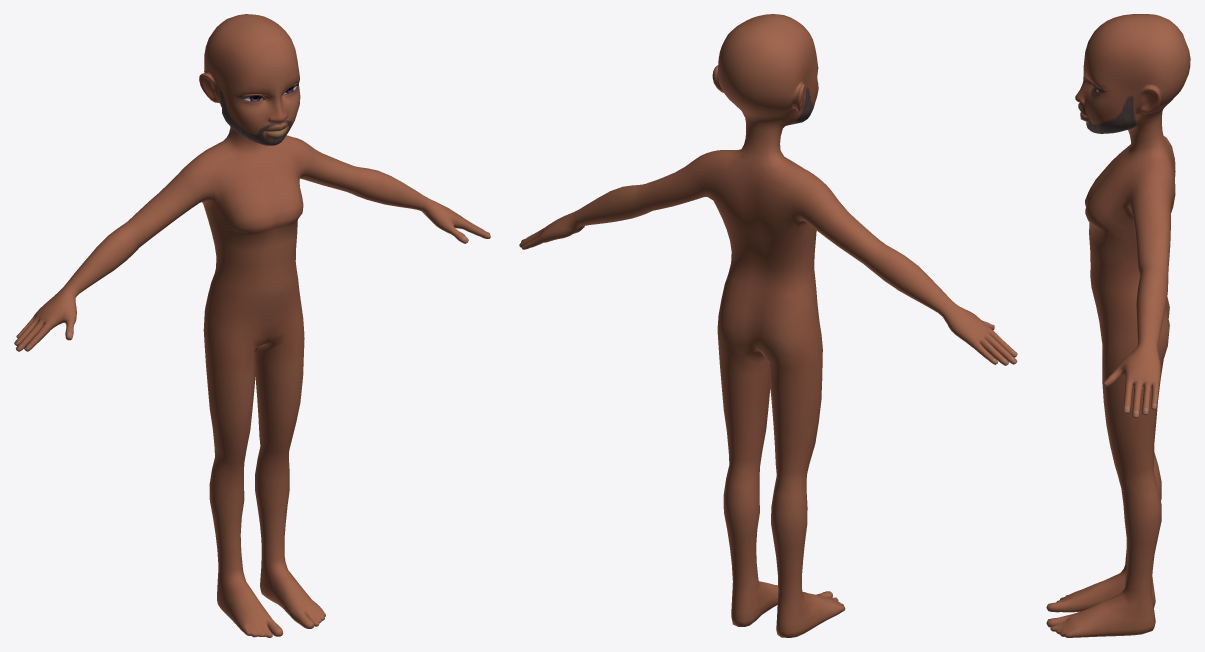
Rendered from frame_0023.glb.
3 views of the same model, side by side, from view 1: azimuth 30°, elevation 25°; view 2: azimuth 150°, elevation 25°; view 3: azimuth 270°, elevation 25° (orthographic). The views are drawn at different scales.
Parts seen in each view (by area): view 1: frame_0023_head_geo; view 2: frame_0023_head_geo; view 3: frame_0023_head_geo.
Part boxes in pixels (x1,y1,x2,y2): frame_0023_head_geo: (14,14,490,637); frame_0023_head_geo: (519,14,1017,637); frame_0023_head_geo: (1046,14,1190,637).
Size of the model in its own units: 1.28 by 1.5 by 0.3253.
3 materials, 3 textured.
